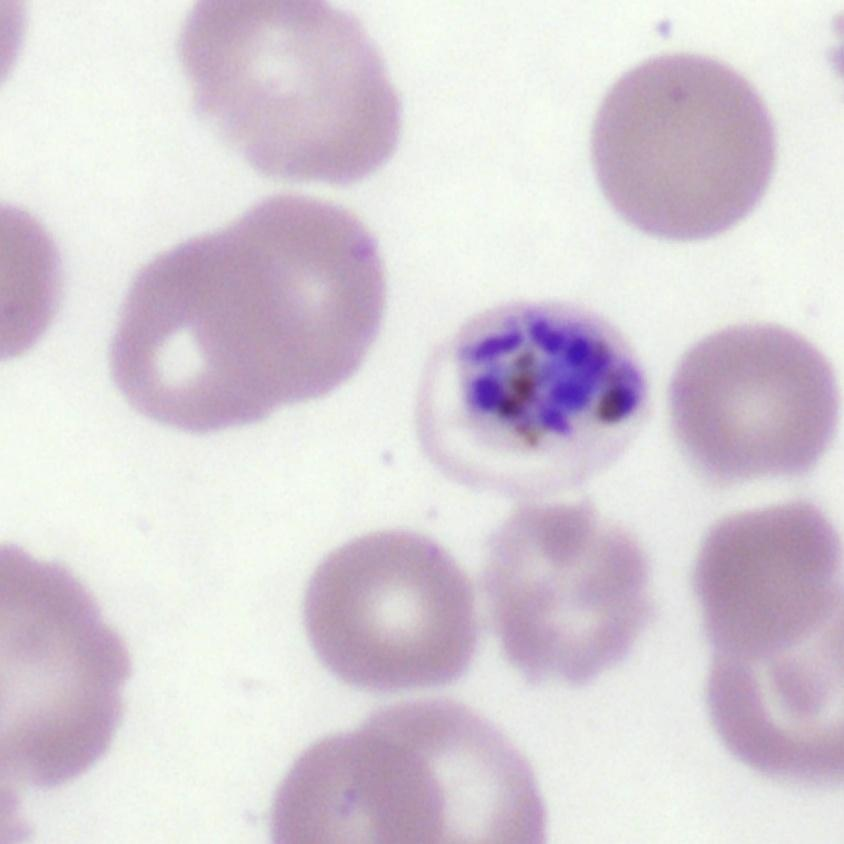Infected: (415, 294, 654, 483)
Uninfected: (177, 0, 404, 186), (103, 230, 303, 435), (182, 197, 380, 401), (590, 55, 775, 242), (482, 497, 654, 677), (0, 548, 126, 786), (357, 697, 550, 844), (305, 530, 474, 687), (665, 324, 840, 474), (688, 497, 844, 662), (705, 607, 844, 774), (272, 732, 446, 844)
